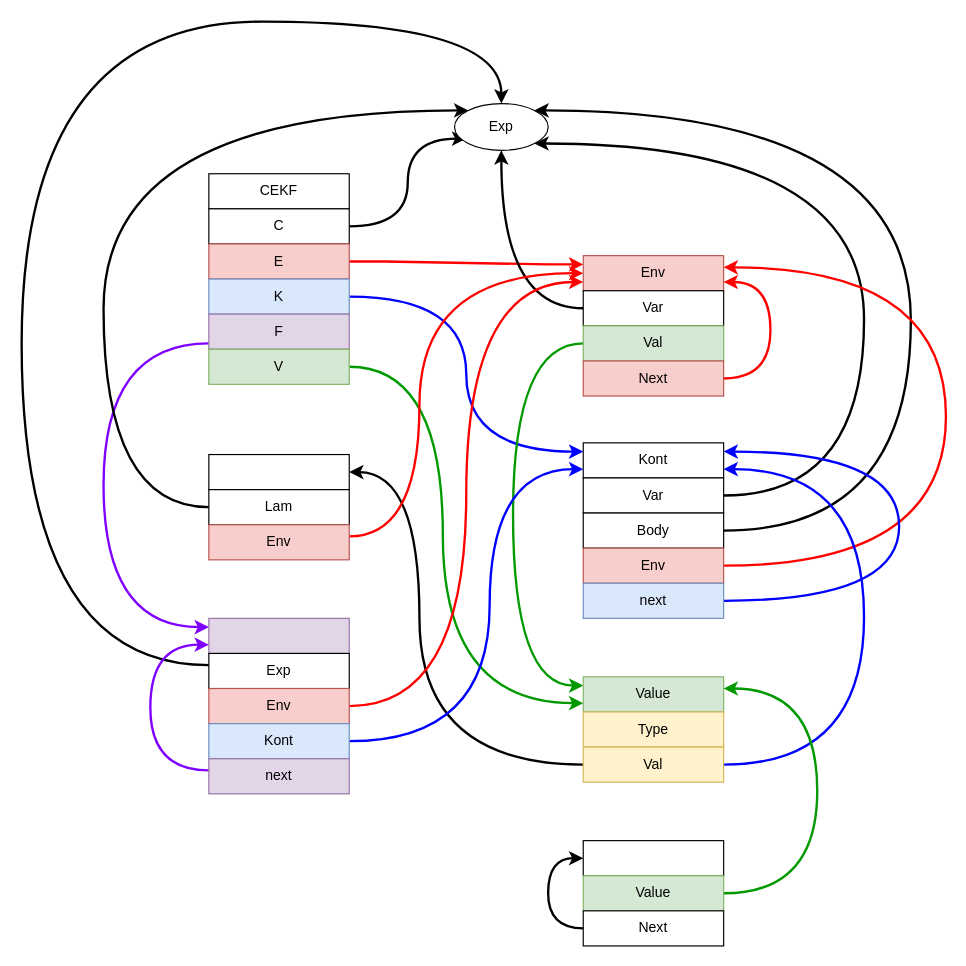
This 966x966 diagram has some shape labels left out. Here are the shapes that lost their labels. From the top down, the centre of each, then its label:
At point (278, 471): "Clo".
At point (278, 635): "Fail".
At point (653, 857): "ValueList".
